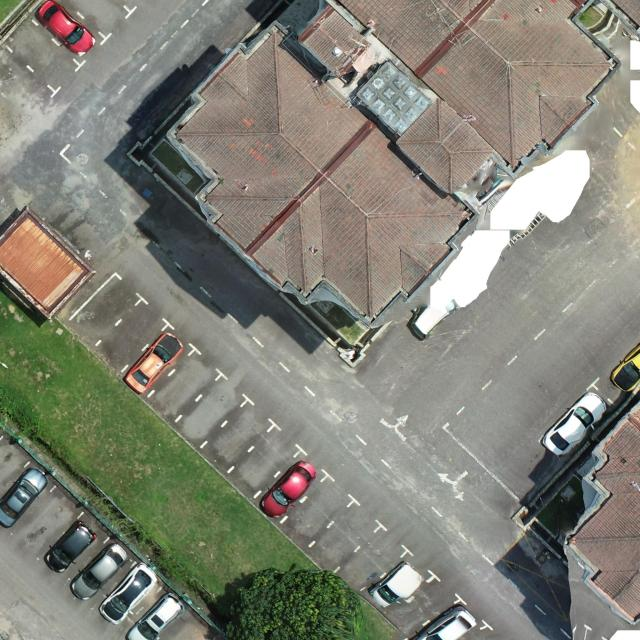Tree: (225, 567, 366, 640)
